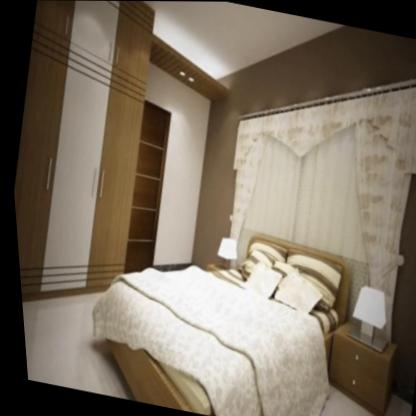Bed: (71, 186, 370, 416)
Closet: (12, 56, 164, 318)
Lamp: (336, 279, 399, 347)
Nightstand: (308, 321, 402, 416)
